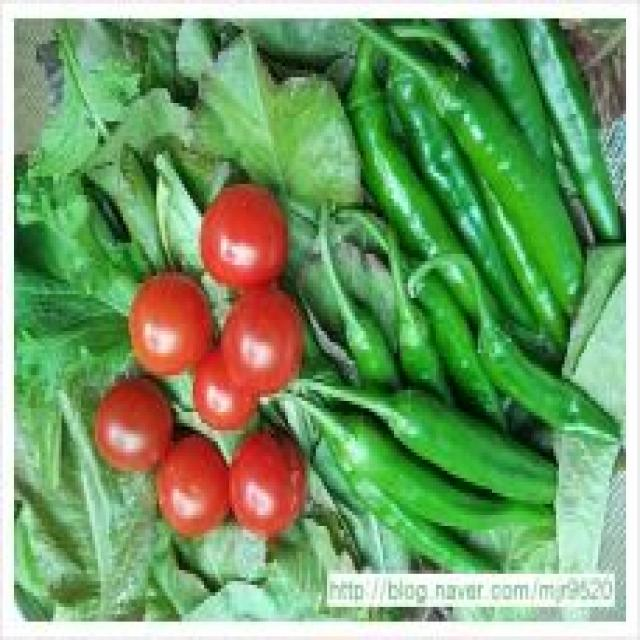level 6: (186, 162, 291, 312), (208, 272, 326, 393), (66, 378, 177, 499), (126, 263, 224, 396), (220, 429, 316, 555), (151, 417, 233, 560), (190, 338, 266, 432)
